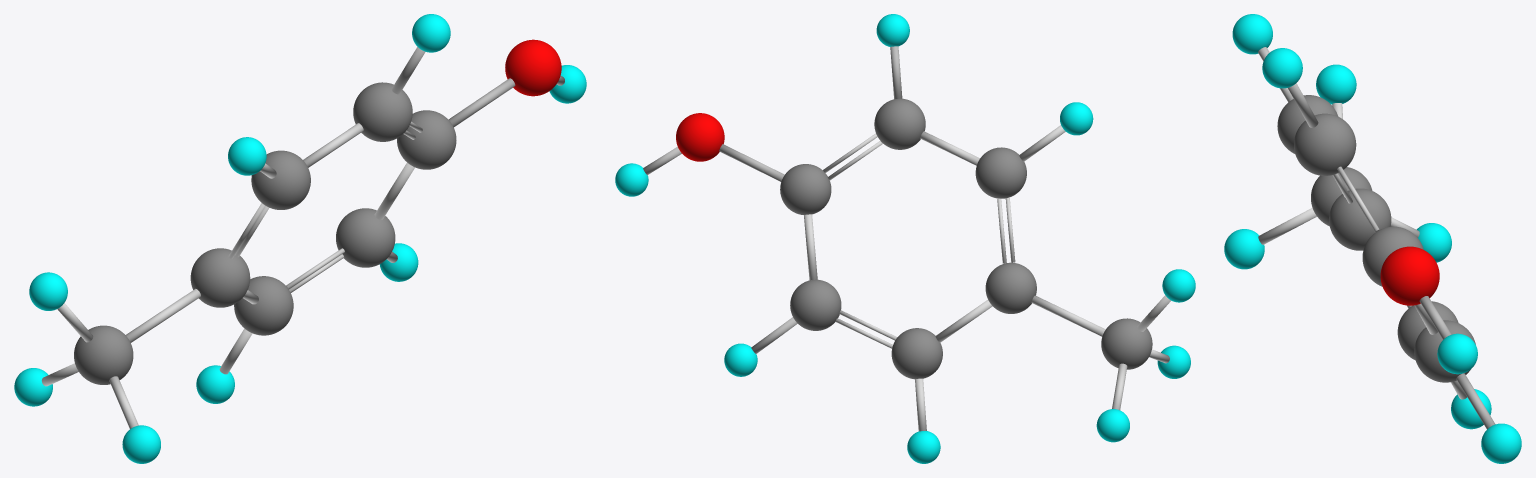
File: p-cresol.glb
The picture shows the model from 3 angles, left to right: view 1: azimuth 30°, elevation 25°; view 2: azimuth 150°, elevation 25°; view 3: azimuth 270°, elevation 25°; orthographic projection. The views are drawn at different scales.
Parts seen in each view (by area): view 1: CMAtom_0; view 2: CMAtom_0; view 3: CMAtom_0.
Part boxes in pixels (x1,y1,x2,y2): CMAtom_0: [14, 14, 586, 463]; CMAtom_0: [615, 14, 1195, 463]; CMAtom_0: [1224, 14, 1521, 463].
Size of the model in its own units: 0.7288 by 0.4813 by 0.2938.
